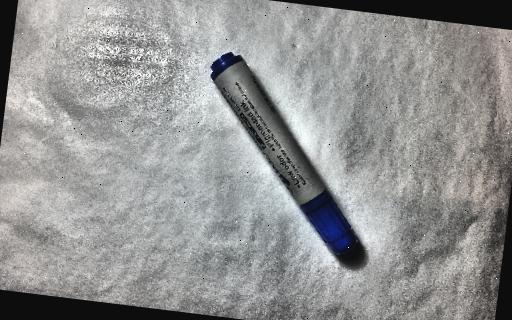marcador azul: (210, 52, 356, 254)
